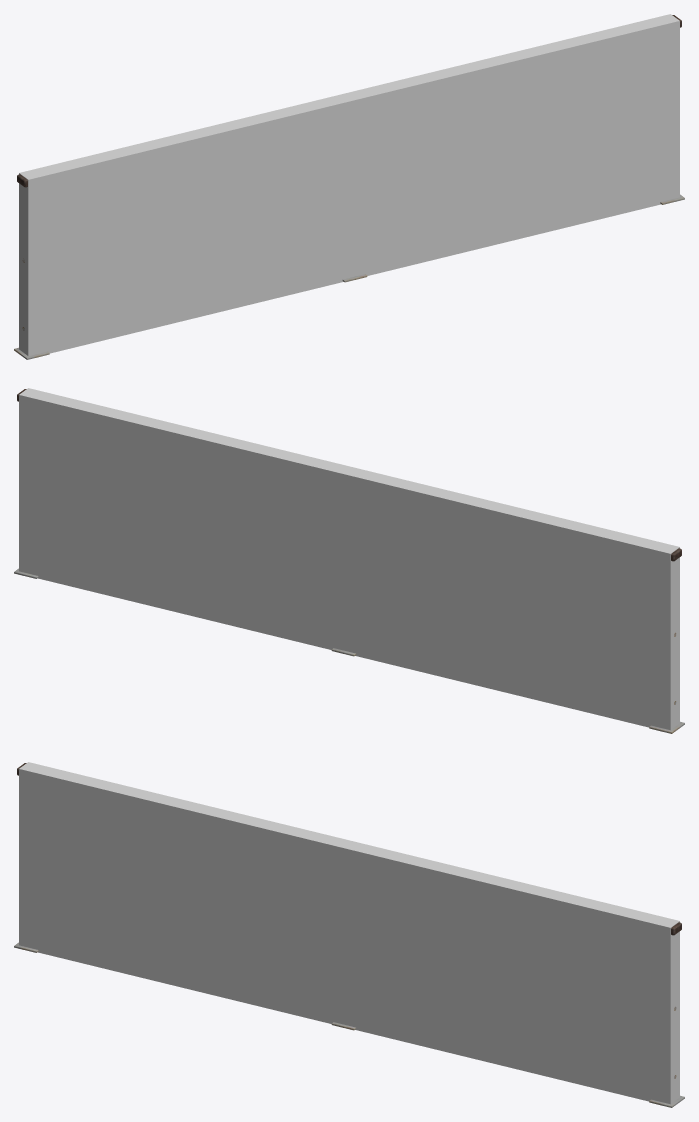
File: p6_rail.glb
The picture shows the model from 3 angles, top to bottom: view 1: azimuth 30°, elevation 25°; view 2: azimuth 150°, elevation 25°; view 3: azimuth 330°, elevation 25°; orthographic projection.
Parts seen in each view (by area): view 1: p6_rail_COL; view 2: p6_rail_COL; view 3: p6_rail_COL.
Boxes of the visible parts, x1=… form: p6_rail_COL: x1=19, y1=14, x2=679, y2=356; p6_rail_COL: x1=19, y1=388, x2=679, y2=730; p6_rail_COL: x1=19, y1=762, x2=679, y2=1104.
Size of what is drawn, in the model's own units: 4.04 by 1.05 by 0.14.
1 material, 1 textured.
